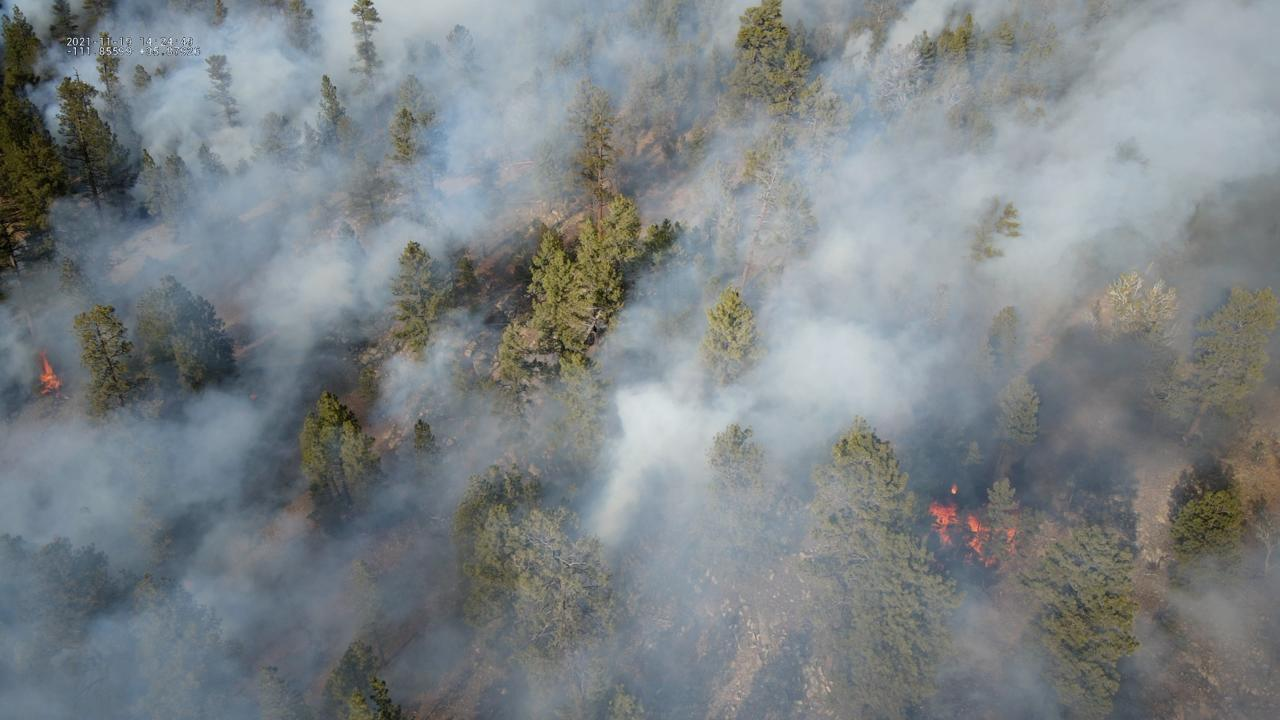fire: (925, 501, 1018, 569), (35, 351, 63, 399), (950, 483, 961, 495), (246, 393, 260, 400)
smoke: (0, 0, 1280, 720)
